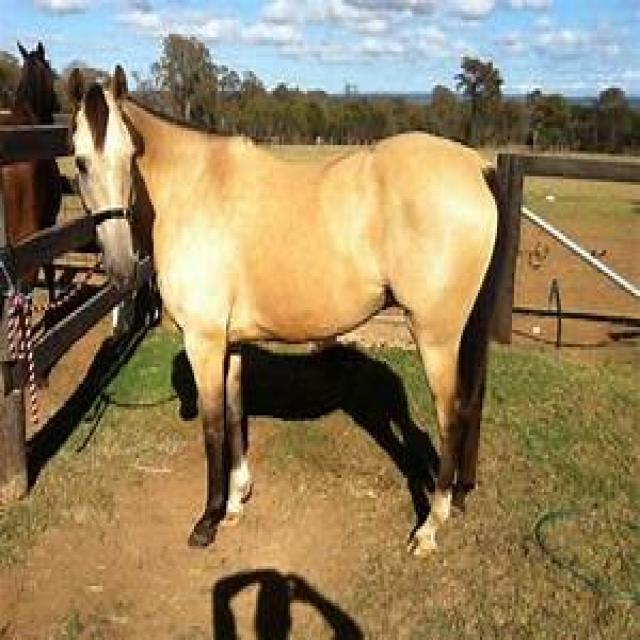horse: (74, 68, 495, 546)
